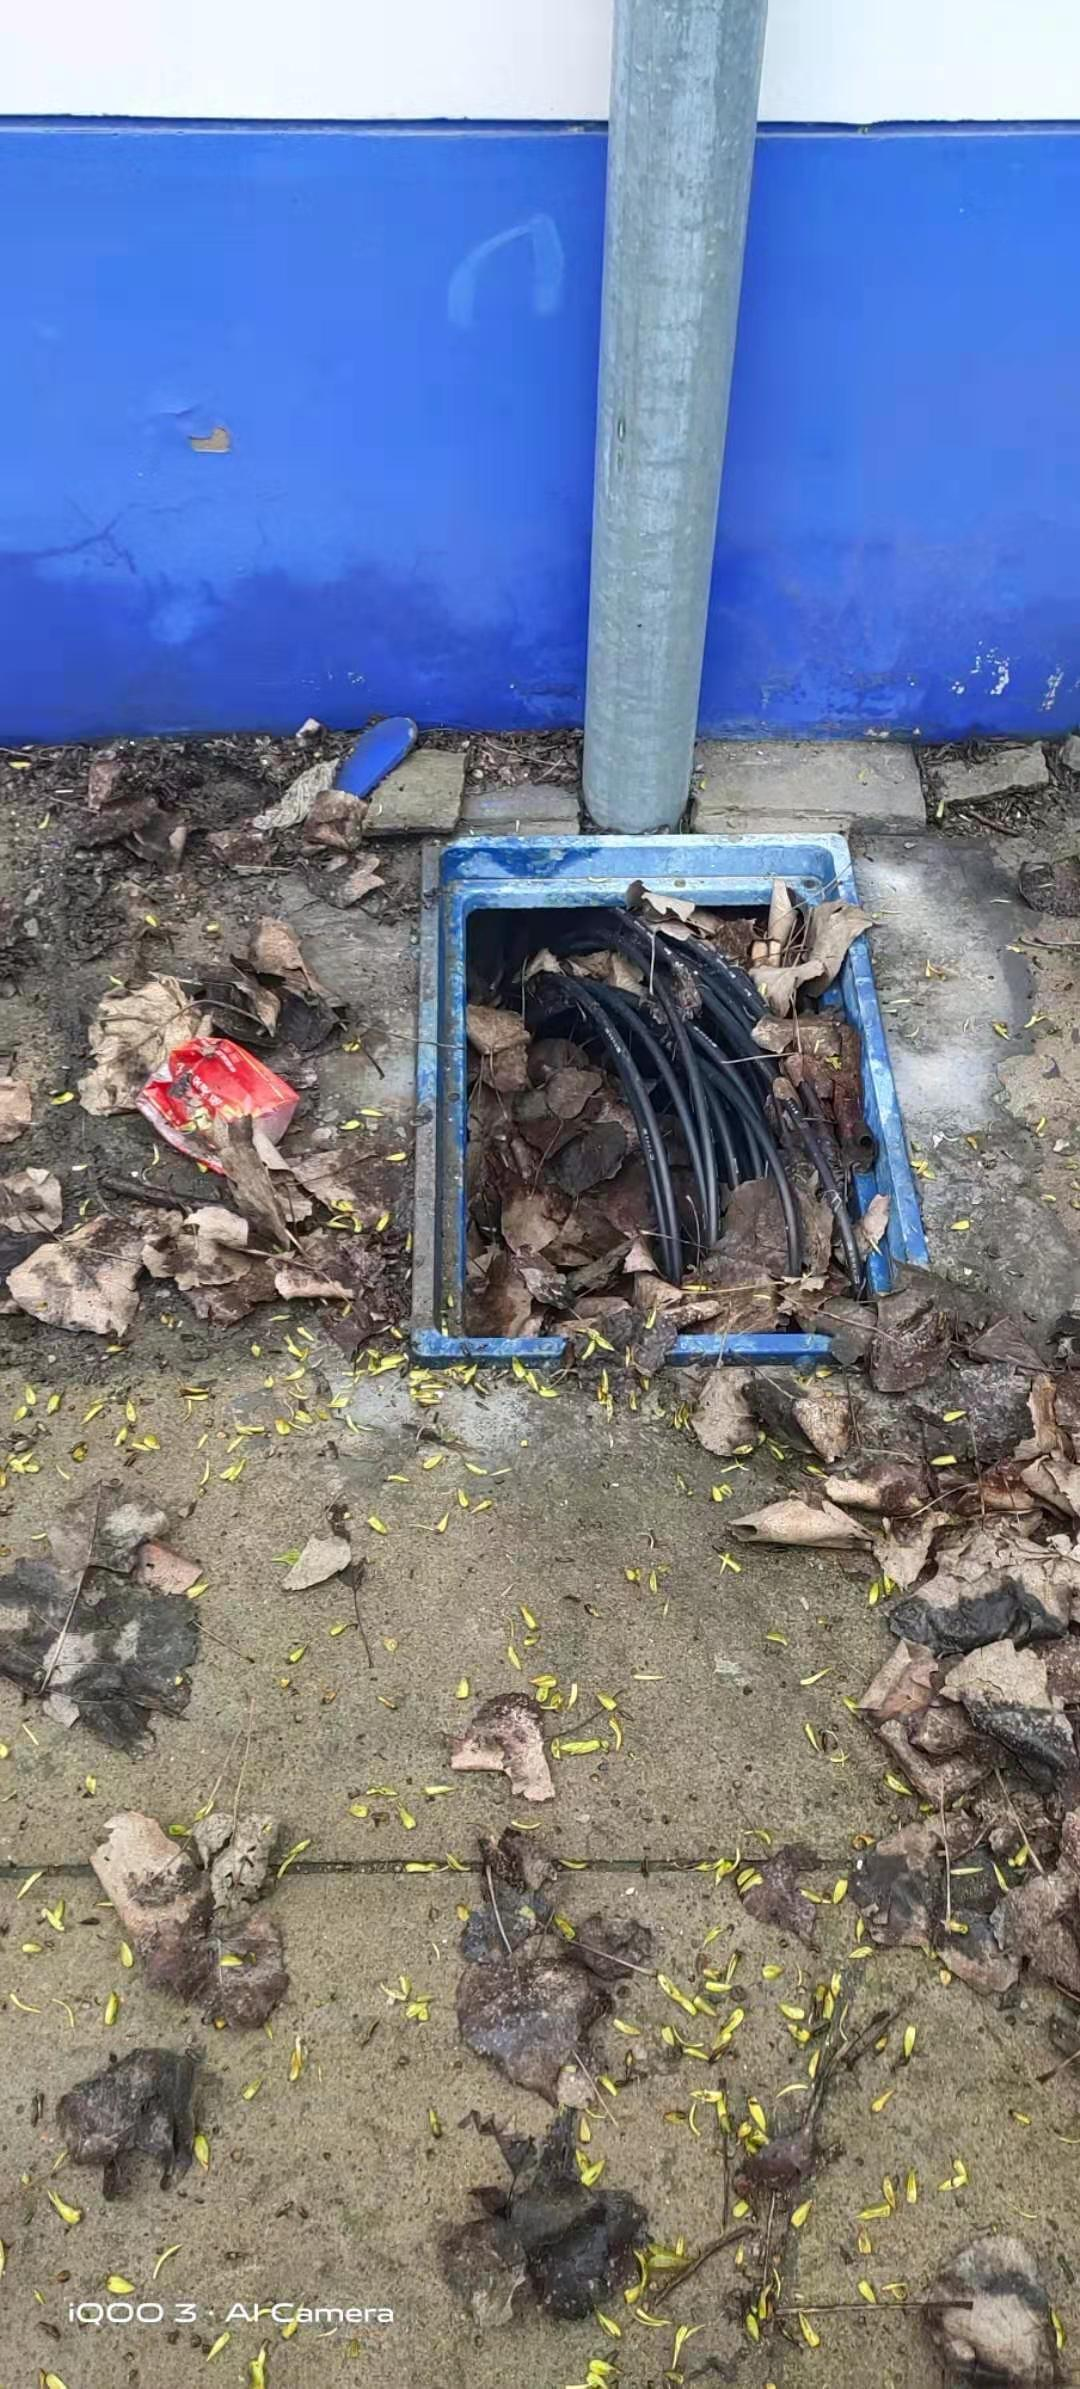wellcover: (361, 757, 979, 1412)
